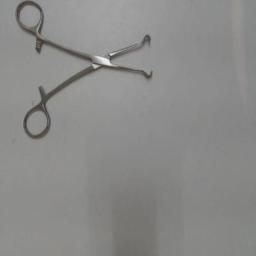Babcock Tissue Forceps: (14, 0, 156, 140)
